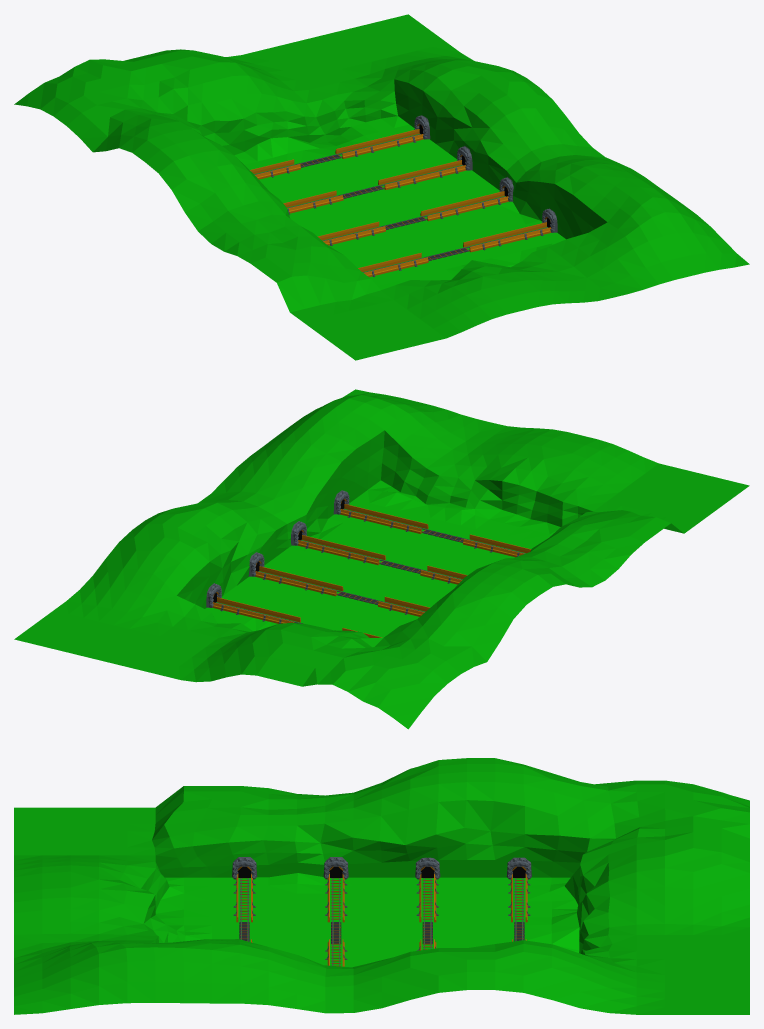
Rendered from cenario.obj.
3 renders of one model, top to bottom at view 1: azimuth 30°, elevation 25°; view 2: azimuth 150°, elevation 25°; view 3: azimuth 270°, elevation 25°, orthographic. The views are drawn at different scales.
Visible parts, largest first — view 1: Plane.005; view 2: Plane.005; view 3: Plane.005, Cube.005_Cube.014, Cube.006_Cube.016, Cube.004_Cube.013, Cube.025_Cube.019.
Part boxes in pixels (x1,y1,x2,y2): Plane.005: [14, 14, 749, 360]; Plane.005: [14, 389, 749, 729]; Plane.005: [14, 758, 749, 1014]; Cube.005_Cube.014: [232, 857, 257, 879]; Cube.006_Cube.016: [323, 857, 348, 879]; Cube.004_Cube.013: [506, 857, 531, 879]; Cube.025_Cube.019: [415, 857, 440, 879].
Size of the model in its own units: 150 by 31.27 by 225.
Materials: 2 (2 with a texture image).
